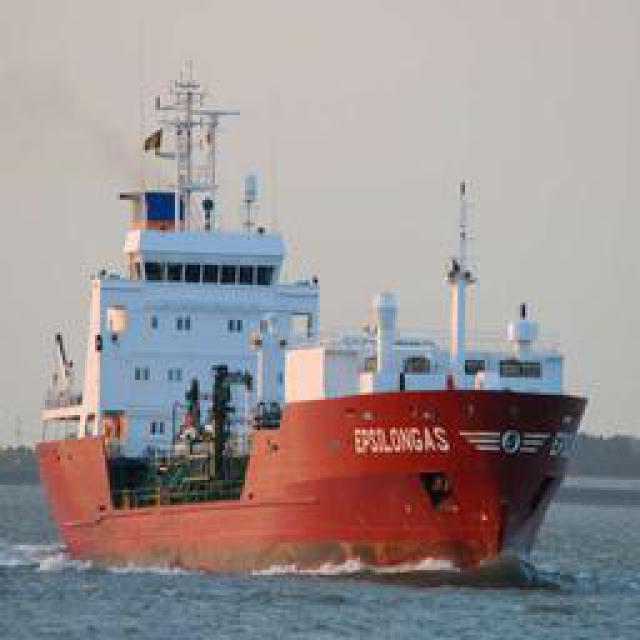Ship: (31, 130, 621, 588)
